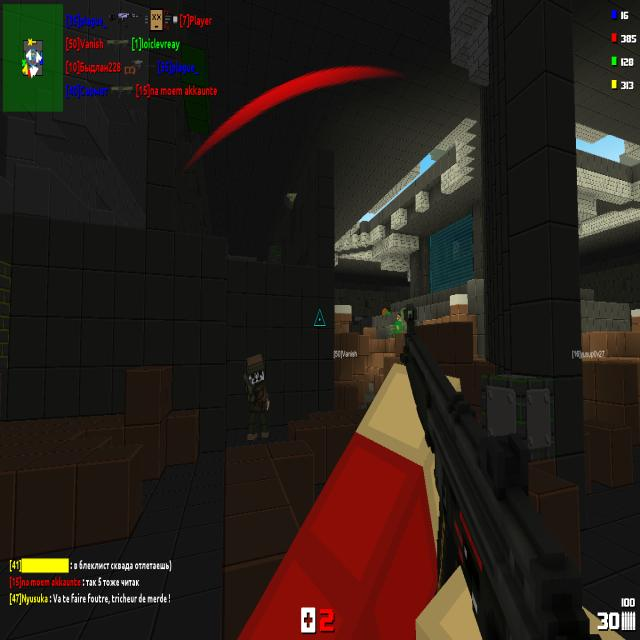enemy: (243, 354, 270, 443)
